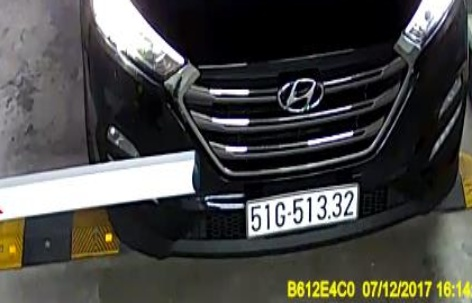plate: (240, 178, 361, 244)
